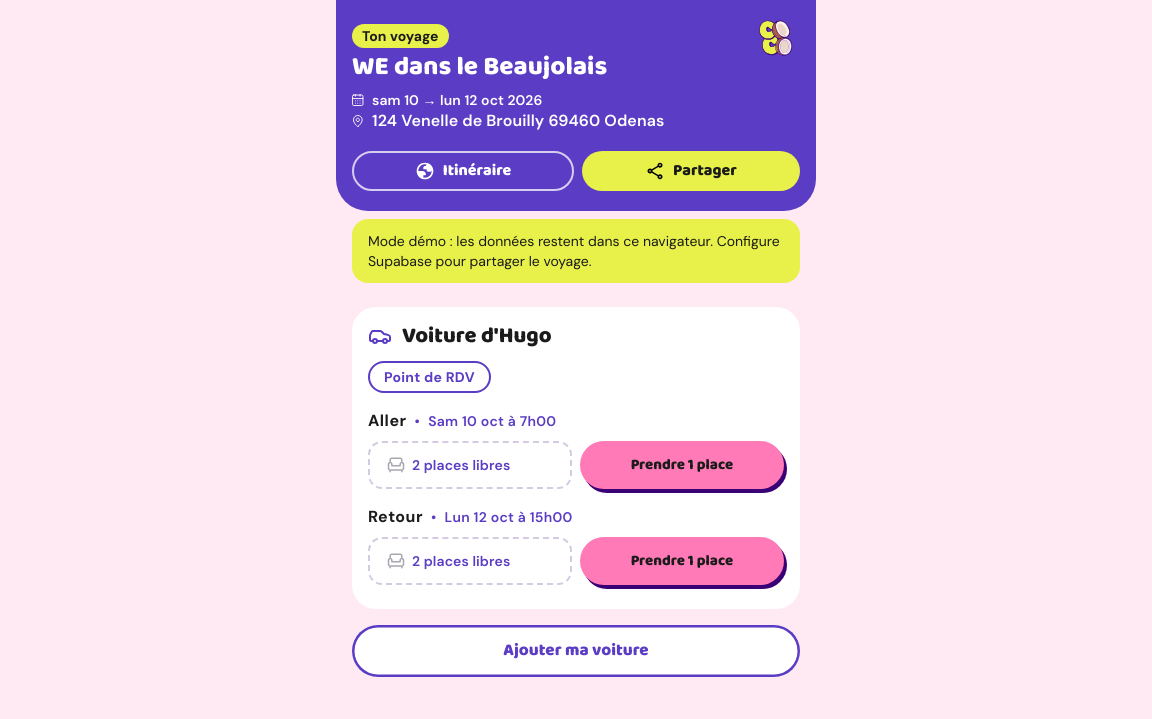
Scenario: Page voyage › pop-in récapitulative : switch « Recevoir le récap par mail »
The width and height of the screenshot is (1152, 719).
Click the button "Prendre 1 place" below "Aller": [682, 465] box x1=580 y1=441 x2=784 y2=489
(page scrolled)
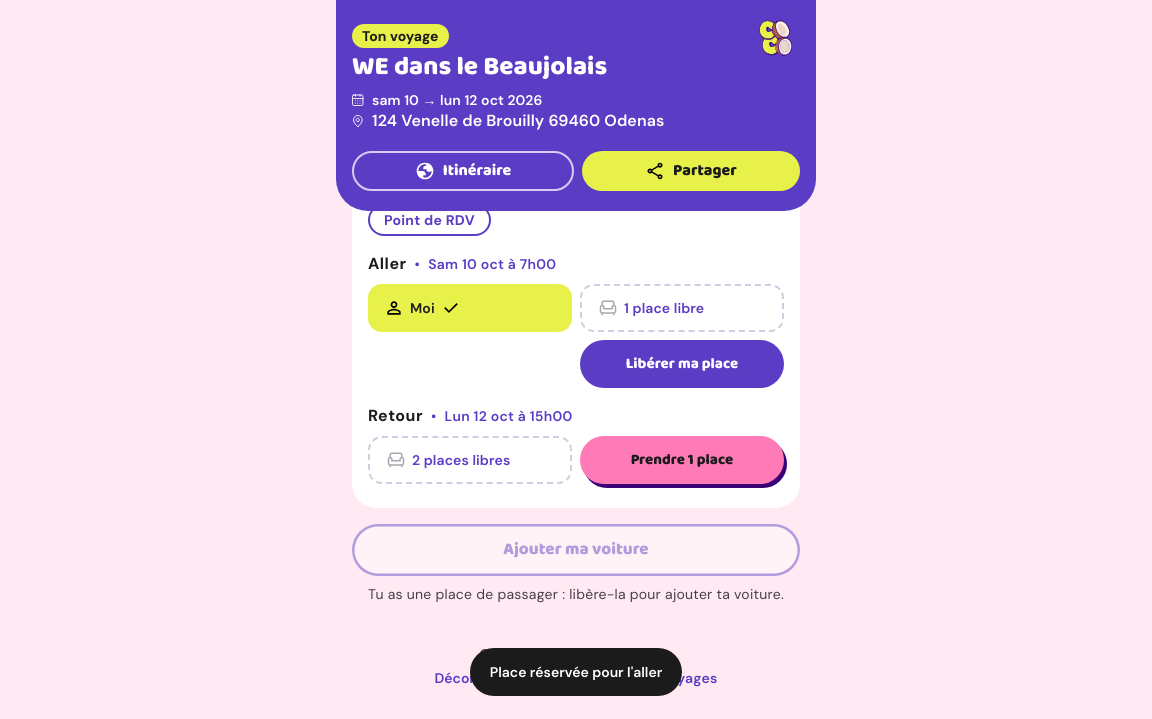
Expected: the number of buttons "Libérer ma place" is 1, x1=580 y1=340 x2=784 y2=388
Click the button "Prendre 1 place": [682, 460] box x1=580 y1=436 x2=784 y2=484
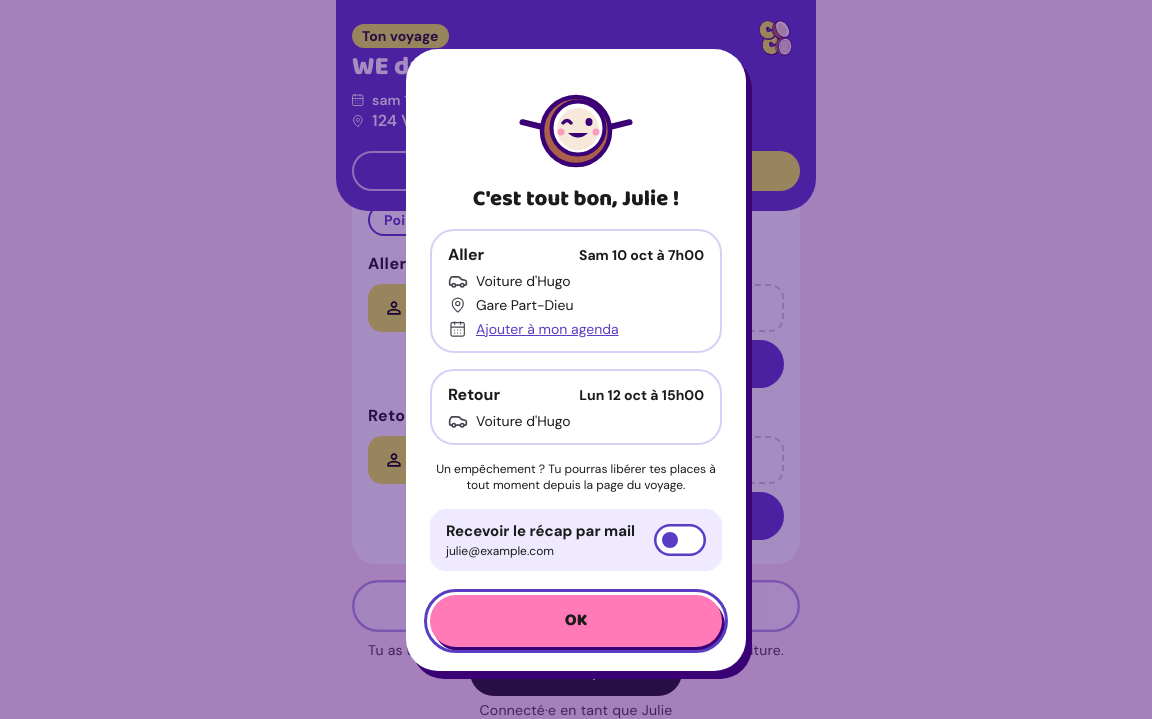
Expected: the number of buttons "Libérer ma place" is 2, x1=580 y1=340 x2=784 y2=388; x1=580 y1=492 x2=784 y2=540
Expected: the dialog "C'est tout bon, Julie !" shows "julie@example.com", x1=446 y1=543 x2=554 y2=559
Click the switch labelled "Recevoir le récap par mail julie@example.com": [576, 540] box x1=430 y1=509 x2=722 y2=571
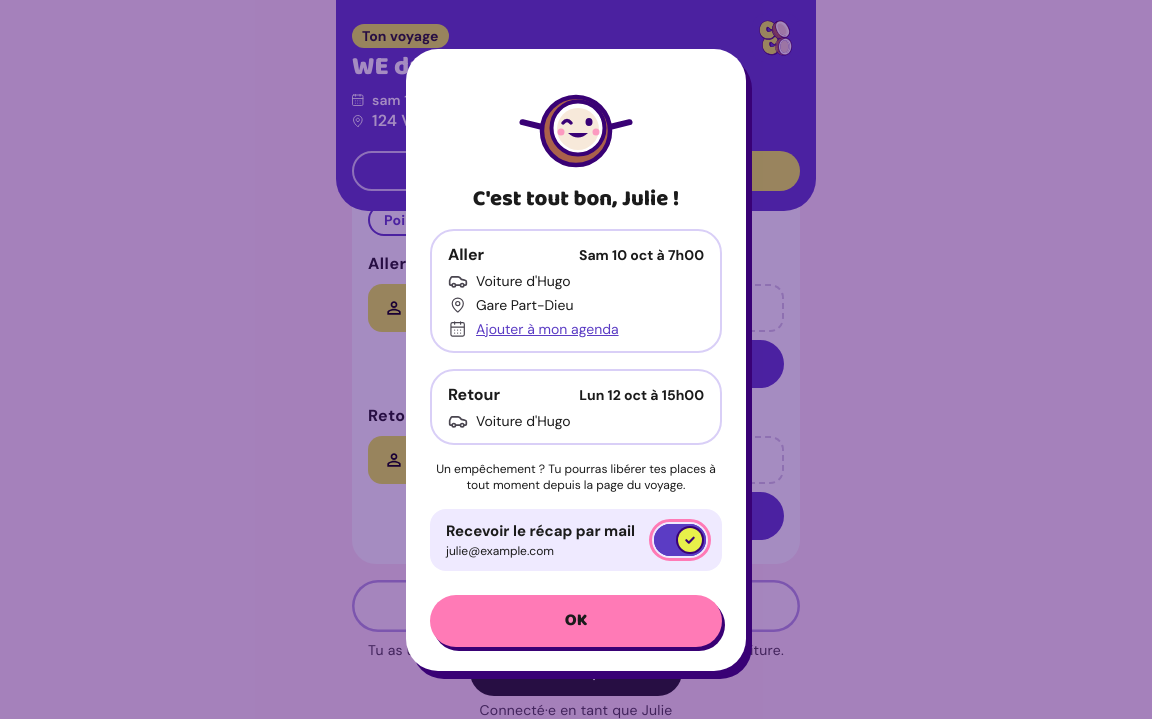
Expected: the switch labelled "Recevoir le récap par mail julie@example.com" is checked, x1=430 y1=509 x2=722 y2=571
Click the button "OK": [576, 621] box x1=430 y1=595 x2=722 y2=647
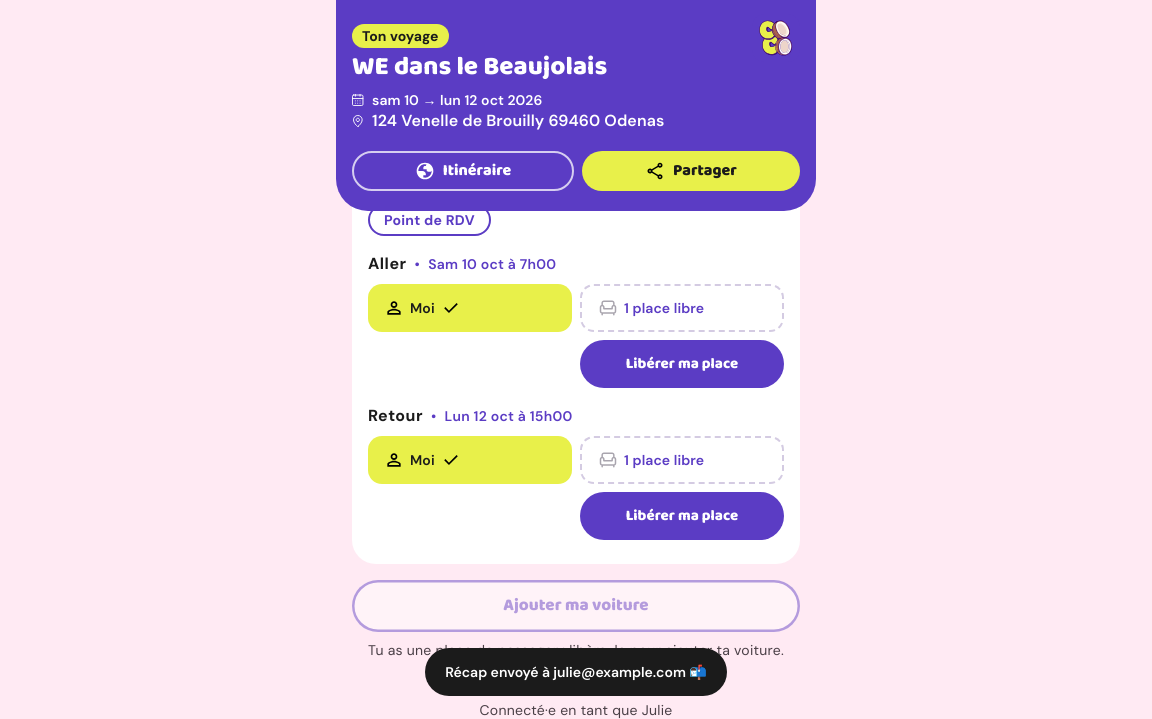
Expected: the message shows "Récap envoyé à julie@example.com", x1=445 y1=663 x2=707 y2=681
